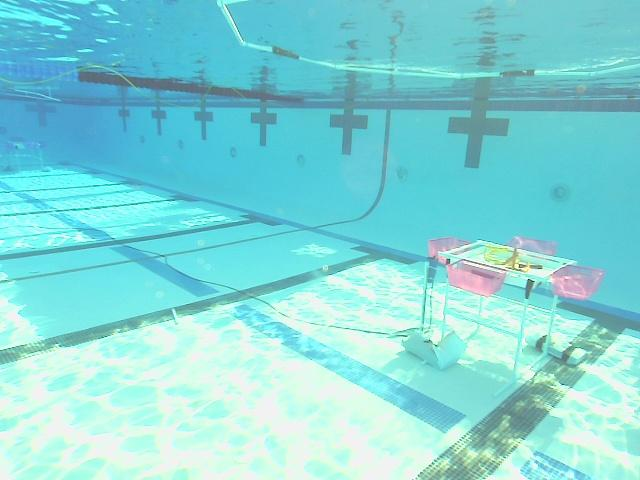table: (402, 236, 605, 397)
